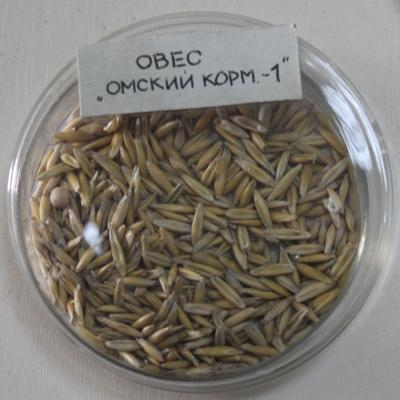natural_science_collection: (29, 97, 366, 381)
